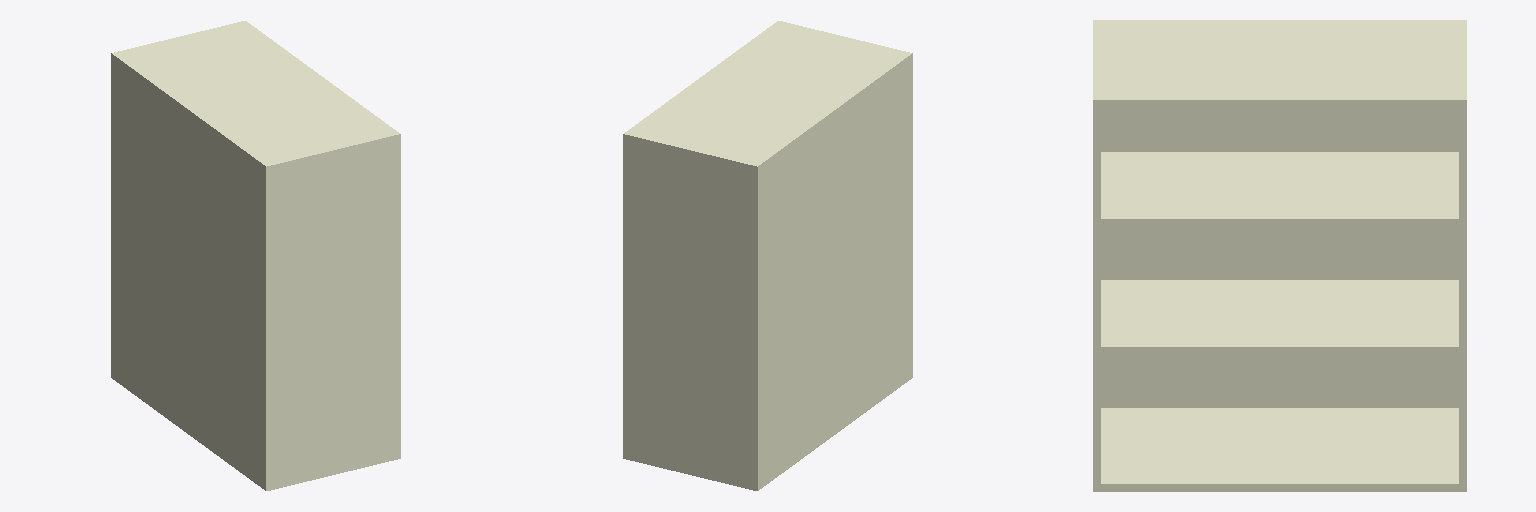
URDF robot description (itoki-900-shelf):
<?xml version="1.0"?>
<robot name="itoki-900-shelf"
       xmlns:xi="http://www.w3.org/2001/XInclude"
       >
  <gazebo>
    <static>false</static>
  </gazebo>
  <link name="nil_link">
    <visual>
      <origin xyz="0 0 0" rpy="0 -0 0"/>
      <geometry>
        <mesh filename="model://itoki-900-shelf/meshes/nil_link_mesh.dae" scale="1 1 1" />
      </geometry>
    </visual>
    <collision>
      <origin xyz="0 0 0" rpy="0 -0 0"/>
      <geometry>
        <mesh filename="model://itoki-900-shelf/meshes/nil_link_mesh.dae" scale="1 1 1" />
      </geometry>
    </collision>
    <inertial>
      <mass value="0.001" />
      <origin xyz="0 0 0" rpy="0 -0 0"/>
      <inertia ixx="1e-03" ixy="0" ixz="0" iyy="1e-03" iyz="0" izz="1e-03"/>
    </inertial>
  </link>
  <gazebo reference="nil_link">
    <mu1>0.9</mu1>
    <mu2>0.9</mu2>
  </gazebo>
</robot>

--- Facts derived from the render (not from the file) ---
3 views of the same robot in one strip: view 1: azimuth 30°, elevation 25°; view 2: azimuth 150°, elevation 25°; view 3: azimuth 270°, elevation 25° (orthographic).
Model itoki-900-shelf with 1 links and 0 joints (none), rooted at nil_link, posed every joint at zero.
Visible links, largest first — view 1: nil_link; view 2: nil_link; view 3: nil_link.
Link boxes in pixels (x1,y1,x2,y2): nil_link: (111, 21, 400, 490); nil_link: (623, 21, 912, 490); nil_link: (1093, 20, 1466, 491).
Bounding box of the posed robot: 0.45 × 0.9 × 1.04 m (x, y, z).
Meshes: 1 distinct files referenced, 1 mesh visuals loaded (1 Collada DAE).